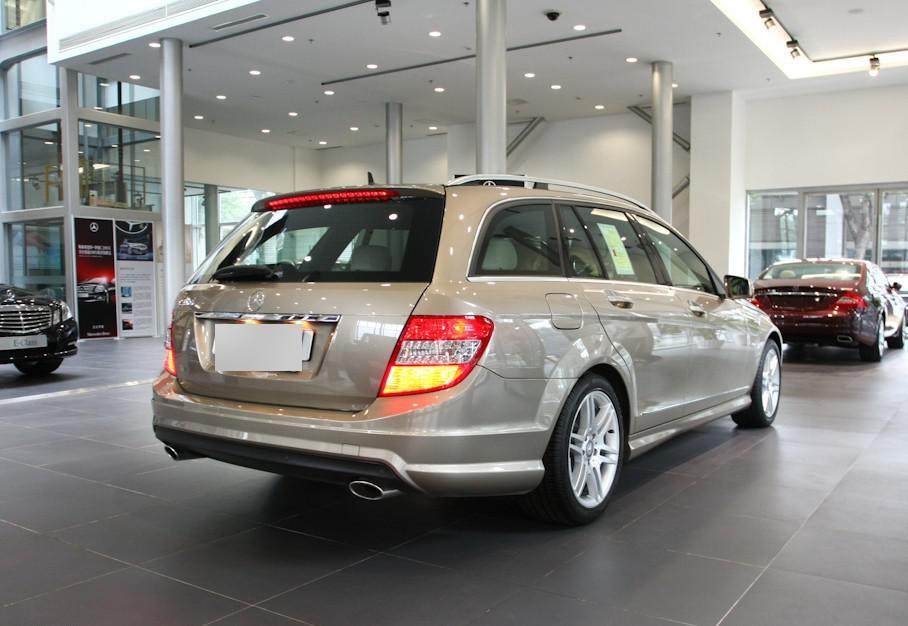Wagon: (152, 182, 784, 530)
